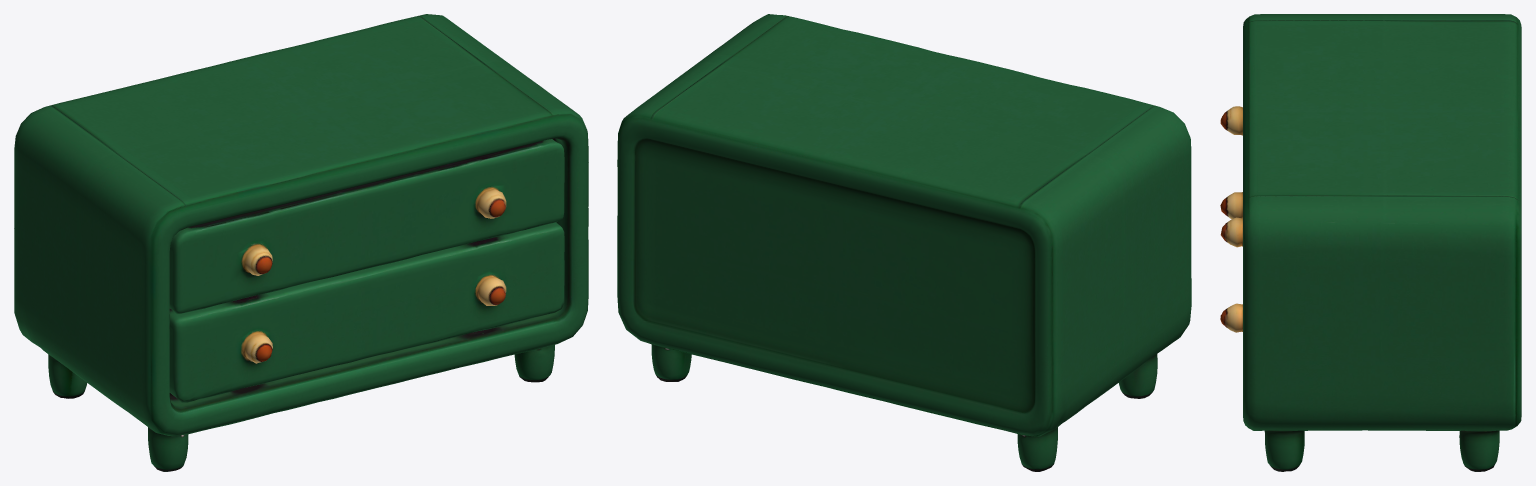
Rendered from tripo_convert_a20ca7a3-d887-46f1-897b-c558cbe540f0.fbx.
3 views of the same model, side by side, from view 1: azimuth 30°, elevation 25°; view 2: azimuth 150°, elevation 25°; view 3: azimuth 270°, elevation 25° (orthographic). The views are drawn at different scales.
Visible parts, largest first — view 1: tripo_node_a20ca7a3; view 2: tripo_node_a20ca7a3; view 3: tripo_node_a20ca7a3.
Part boxes in pixels (x1,y1,x2,y2): tripo_node_a20ca7a3: [14, 14, 588, 471]; tripo_node_a20ca7a3: [617, 14, 1191, 471]; tripo_node_a20ca7a3: [1220, 14, 1521, 471].
Bounding box in the file's own units: 0.9791 × 0.5885 × 0.5905.
Materials: 1 (1 with a texture image).
